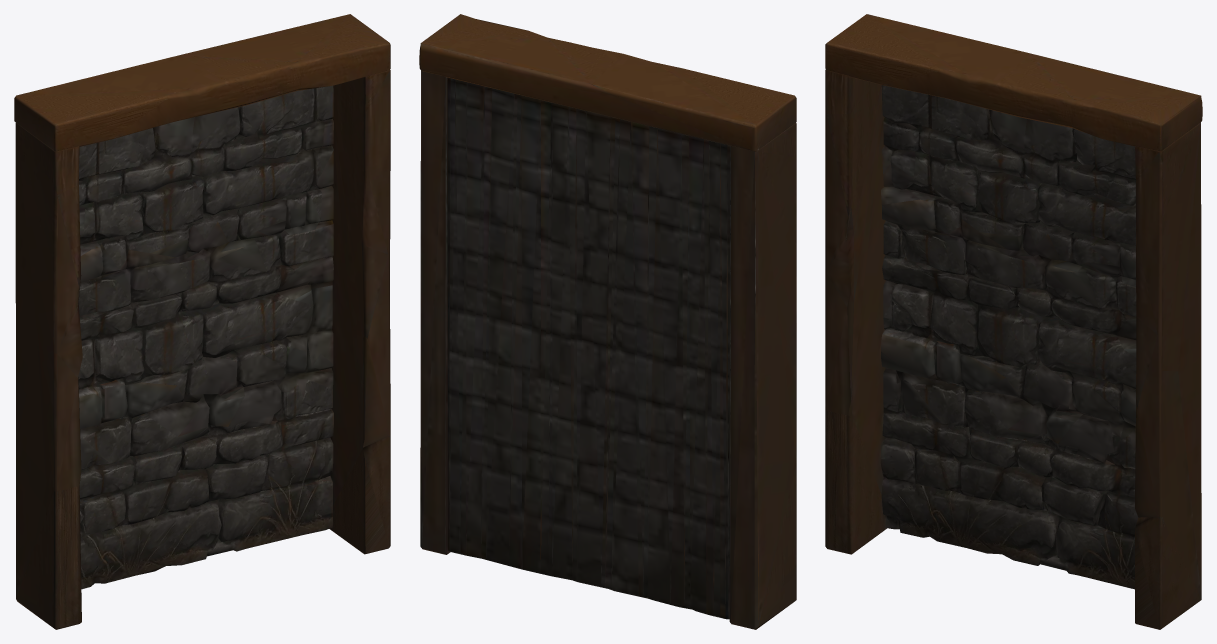
File: blk_dungeon_wall.glb
3 views of the same model, side by side, from view 1: azimuth 30°, elevation 25°; view 2: azimuth 150°, elevation 25°; view 3: azimuth 330°, elevation 25° (orthographic).
Size of the model in its own units: 0.6636 by 0.9531 by 0.1436.
Materials: 1 (1 with a texture image).
